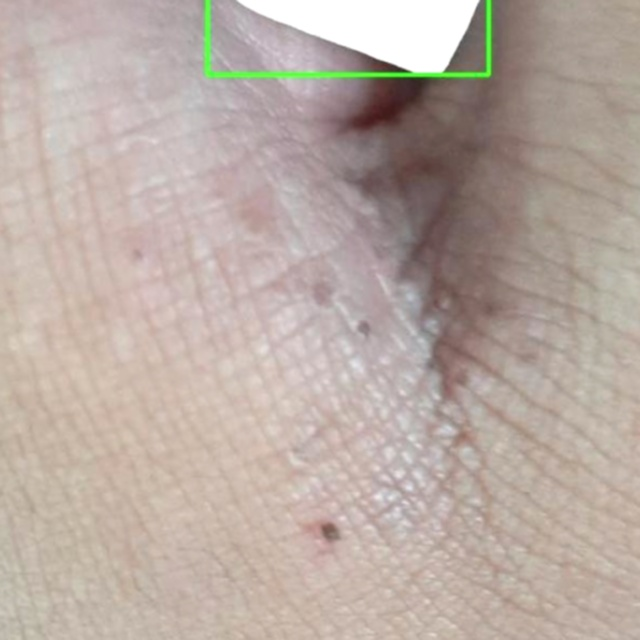Scabies: (206, 0, 487, 74)
